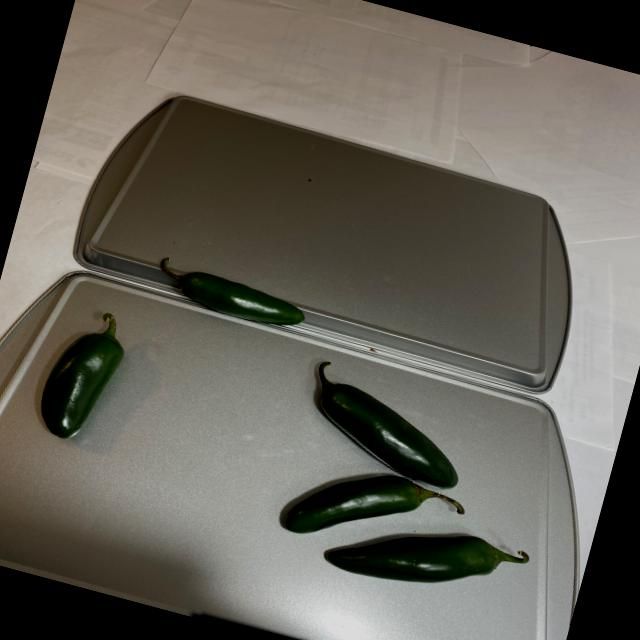chilli: (255, 360, 560, 616), (26, 303, 136, 457), (140, 254, 316, 345)
